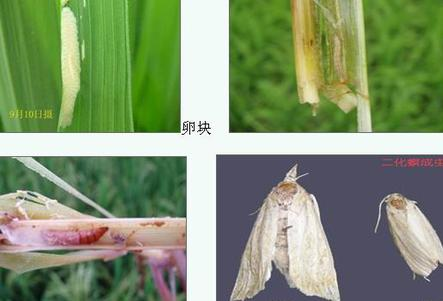moth: (233, 166, 341, 301), (366, 187, 443, 281)
